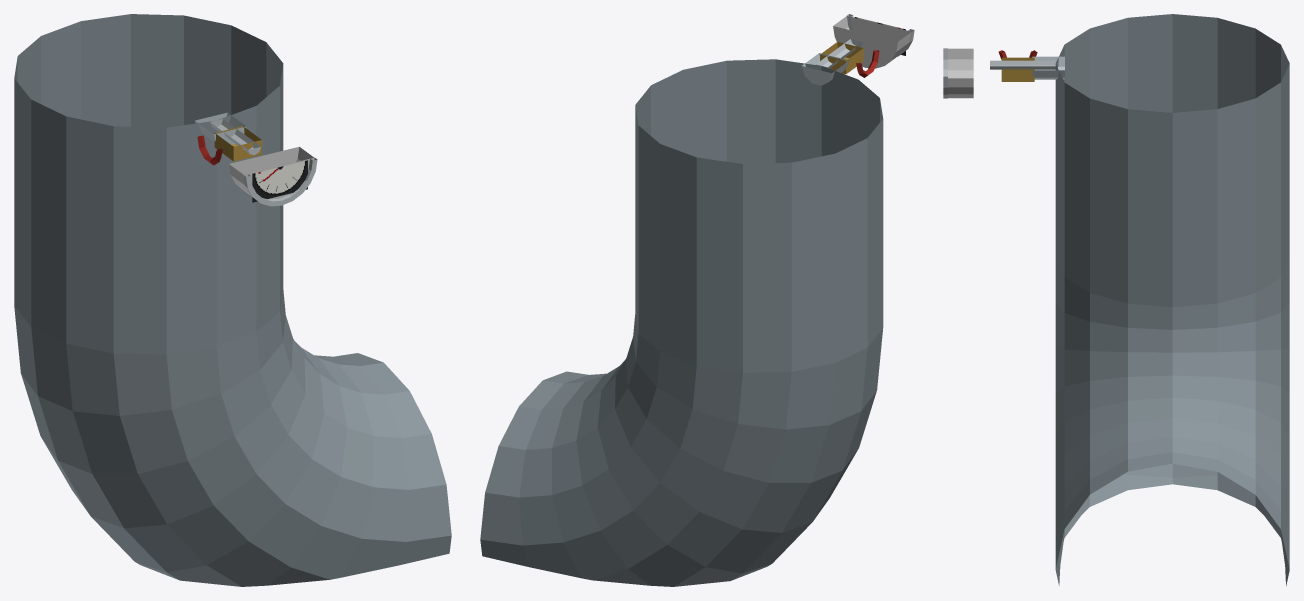
Rendered from cell_29.obj.
3 views of the same model, side by side, from view 1: azimuth 30°, elevation 25°; view 2: azimuth 150°, elevation 25°; view 3: azimuth 270°, elevation 25° (orthographic). The views are drawn at different scales.
Size of the model in its own units: 0.75 by 1 by 0.74.
